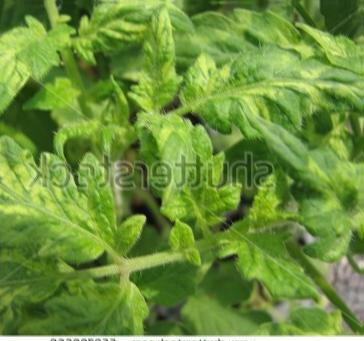Tomato leaf mosaic virus: (185, 32, 364, 140), (0, 127, 129, 259), (138, 109, 244, 234), (0, 20, 73, 140), (224, 220, 327, 298), (20, 278, 157, 332), (128, 1, 185, 122)
